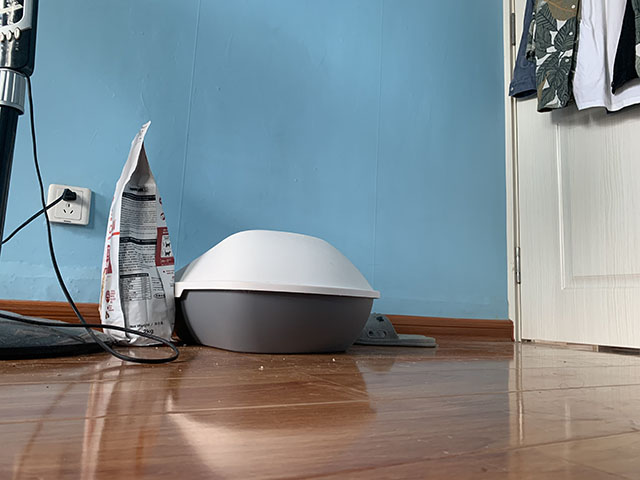slippers: (354, 311, 438, 349)
wire: (1, 74, 179, 366)
